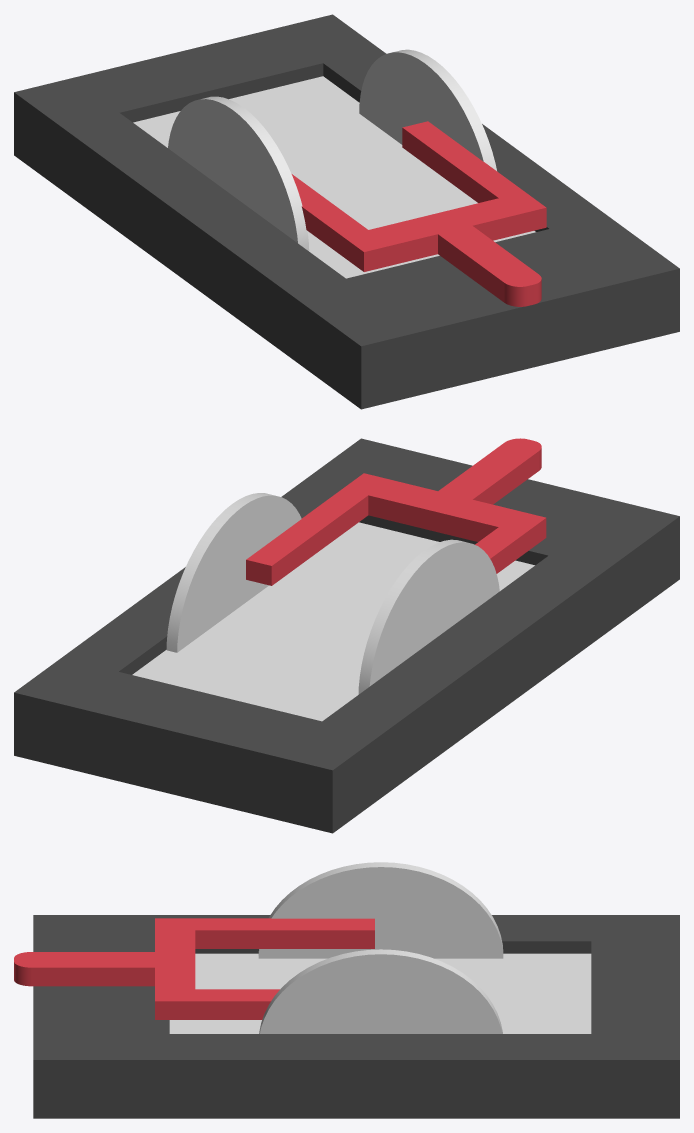
Rendered from Lever.fbx.
The picture shows the model from 3 angles, top to bottom: view 1: azimuth 30°, elevation 25°; view 2: azimuth 150°, elevation 25°; view 3: azimuth 270°, elevation 25°; orthographic projection. The views are drawn at different scales.
Parts seen in each view (by area): view 1: Cube, Cube.001; view 2: Cube, Cube.001; view 3: Cube, Cube.001.
Boxes of the visible parts, x1=… form: Cube: x1=14, y1=14, x2=679, y2=409; Cube.001: x1=291, y1=121, x2=546, y2=306; Cube: x1=14, y1=438, x2=679, y2=833; Cube.001: x1=246, y1=438, x2=546, y2=585; Cube: x1=33, y1=862, x2=679, y2=1118; Cube.001: x1=14, y1=918, x2=374, y2=1019.
Size of the model in its own units: 200 by 88.99 by 388.
